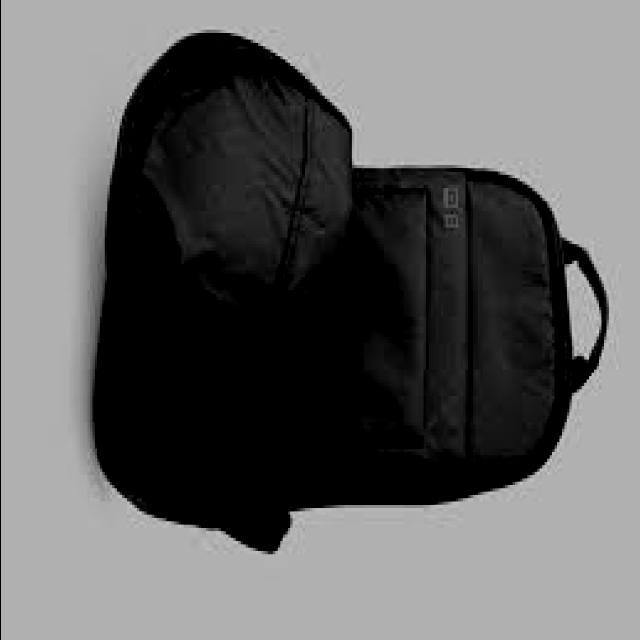backpack: (95, 31, 611, 552)
